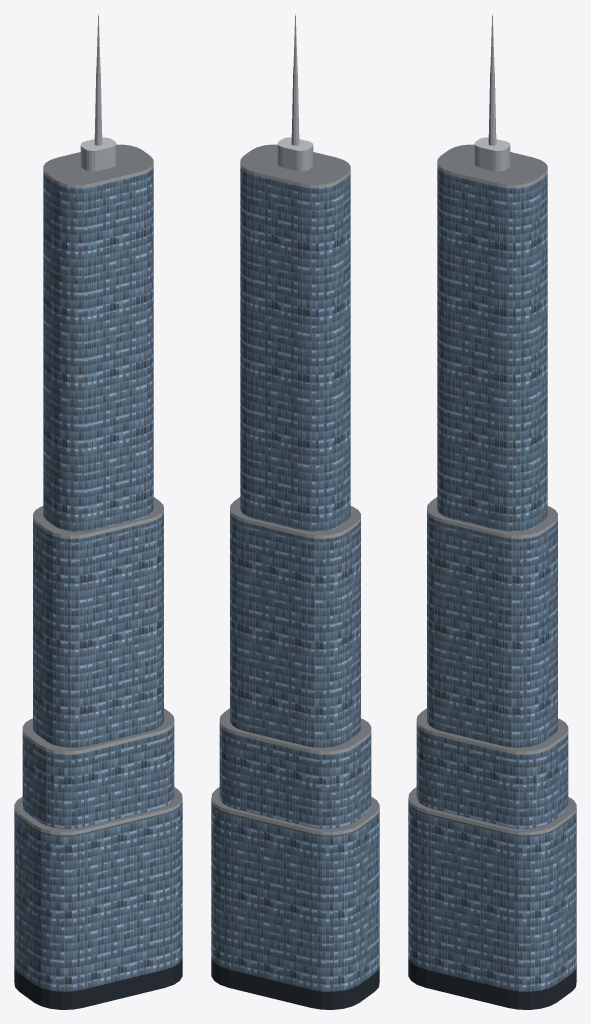
The model's file is tower_401_n_wabash.glb.
3 views of the same model, side by side, from view 1: azimuth 30°, elevation 25°; view 2: azimuth 150°, elevation 25°; view 3: azimuth 330°, elevation 25° (orthographic).
Visible parts, largest first — view 1: tower_401_n_wabash; view 2: tower_401_n_wabash; view 3: tower_401_n_wabash.
Boxes of the visible parts, <box> form: tower_401_n_wabash: <box>14,14,182,1009</box>; tower_401_n_wabash: <box>211,14,379,1009</box>; tower_401_n_wabash: <box>408,14,576,1009</box>.
Size of the model in its own units: 66 by 423 by 40.
2 materials, 2 textured.
